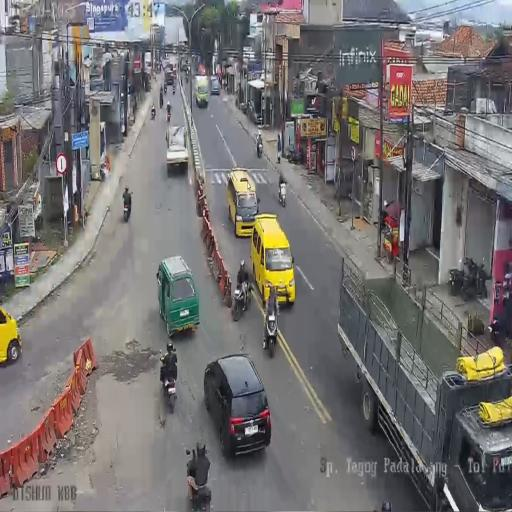car: (203, 354, 272, 458), (252, 214, 296, 306), (157, 255, 200, 339), (226, 168, 259, 237), (166, 123, 189, 172), (165, 66, 174, 86), (211, 74, 219, 95)
motorcycle: (159, 351, 177, 413), (490, 293, 512, 339), (262, 298, 279, 356), (233, 275, 252, 321), (285, 146, 303, 165), (122, 194, 132, 222), (278, 180, 287, 208), (255, 132, 263, 157), (159, 87, 164, 107), (150, 106, 156, 120), (166, 106, 171, 122), (164, 81, 167, 93), (172, 82, 175, 94), (186, 72, 188, 84), (180, 75, 182, 87)
truck: (337, 260, 511, 510), (194, 75, 209, 108), (143, 52, 152, 85), (180, 57, 189, 76)
